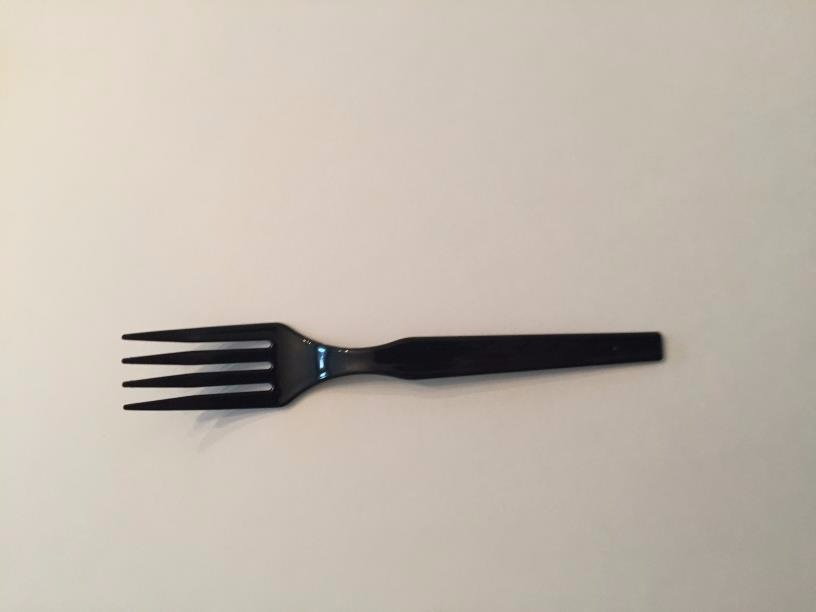fork: (68, 293, 728, 446)
